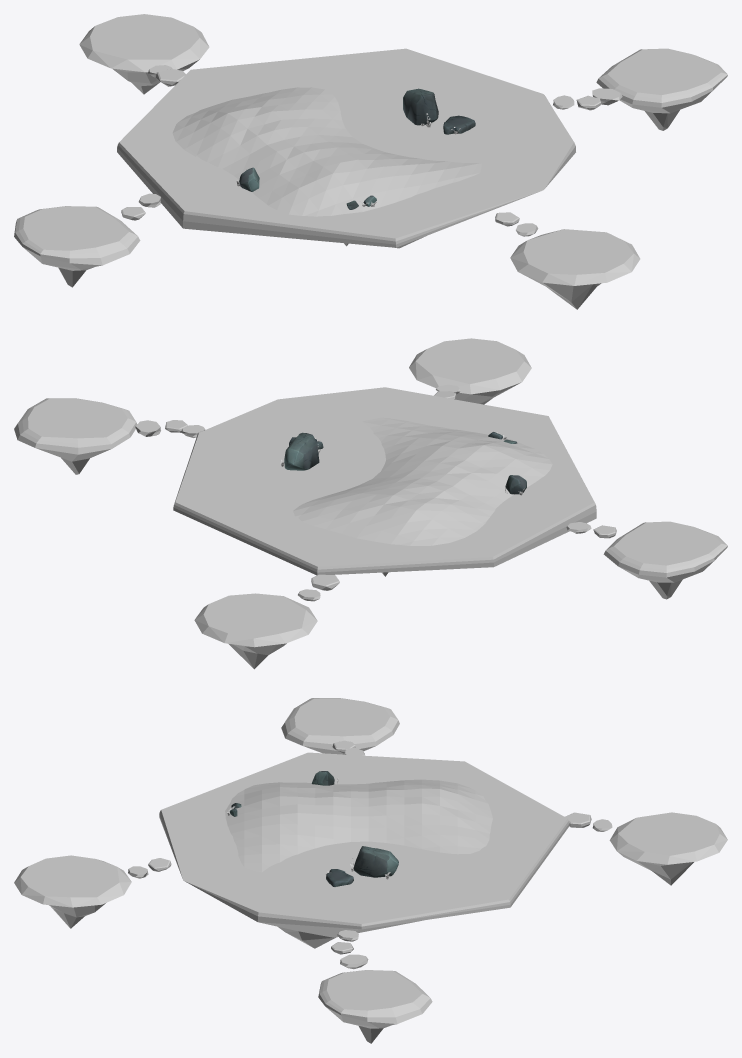
The model's file is islands_set_landscape.obj.
3 views of the same model, one above another, from view 1: azimuth 30°, elevation 25°; view 2: azimuth 150°, elevation 25°; view 3: azimuth 270°, elevation 25° (orthographic). The views are drawn at different scales.
Visible parts, largest first — view 1: island0.3.soil, island2.soil, island1.soil, island1.rock, island2.rock, stair2.soil, stair1.soil, decoration.rock.2, decoration.rock.1; view 2: island0.3.soil, island1.soil, island2.soil, island1.rock, stair2.soil, island2.rock, decoration.rock.2, stair1.soil; view 3: island0.3.soil, island1.soil, island2.soil, island2.rock, island0.3.rock, decoration.rock.2, stair2.soil, stair1.soil, island1.rock.
Part boxes in pixels (x1,y1,x2,y2): island0.3.soil: [117, 48, 575, 247]; island2.soil: [79, 14, 640, 285]; island1.soil: [14, 48, 727, 265]; island1.rock: [23, 91, 712, 287]; island2.rock: [112, 59, 601, 309]; stair2.soil: [138, 65, 622, 235]; stair1.soil: [121, 69, 600, 225]; decoration.rock.2: [403, 88, 438, 125]; decoration.rock.1: [443, 115, 475, 134]; island0.3.soil: [173, 387, 596, 575]; island1.soil: [14, 398, 727, 577]; island2.soil: [194, 338, 531, 647]; island1.rock: [36, 448, 713, 599]; stair2.soil: [135, 384, 591, 600]; island2.rock: [228, 382, 520, 669]; decoration.rock.2: [284, 432, 319, 470]; stair1.soil: [165, 391, 616, 590]; island0.3.soil: [159, 752, 569, 929]; island1.soil: [281, 698, 432, 1023]; island2.soil: [14, 812, 727, 907]; island2.rock: [49, 851, 693, 928]; island0.3.rock: [259, 920, 423, 948]; decoration.rock.2: [353, 846, 398, 877]; stair2.soil: [128, 748, 612, 967]; stair1.soil: [148, 740, 591, 954]; island1.rock: [303, 746, 396, 1043].
Bounding box in the file's own units: 17.66 × 3.12 × 16.91.
